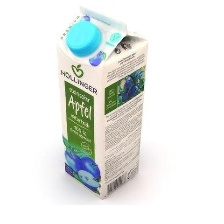carton: (52, 2, 154, 200)
